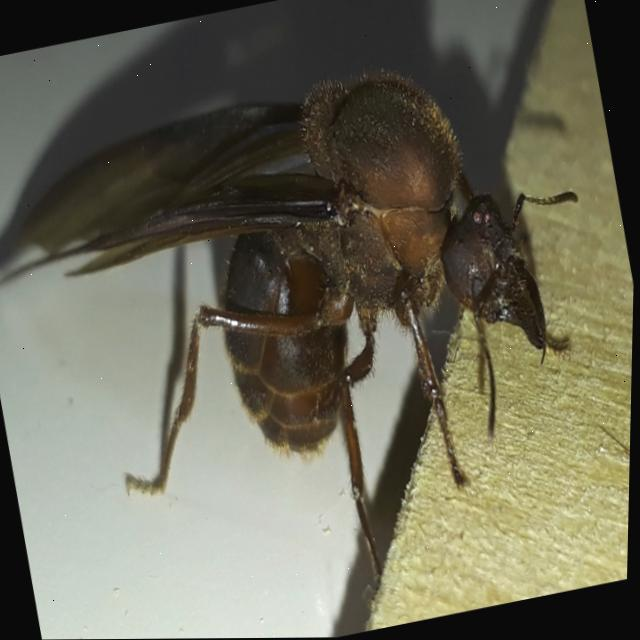Alive-Female-Alate: (0, 33, 639, 640)
